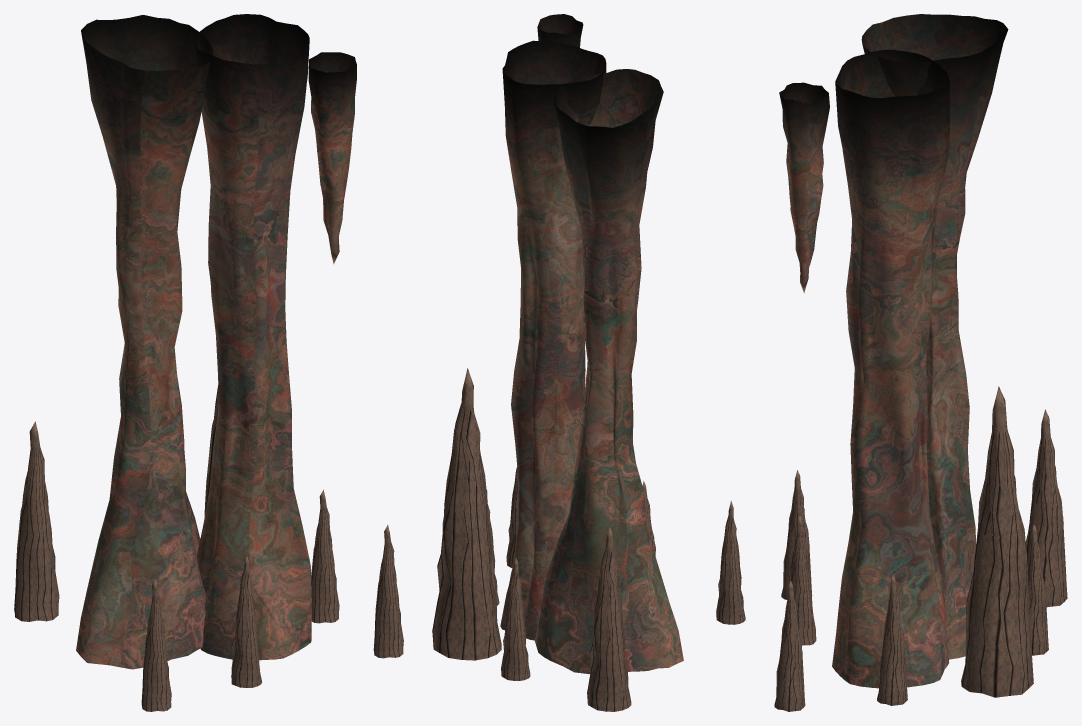
Rendered from cave_objects_stala_pillar2.glb.
3 renders of one model, left to right at view 1: azimuth 30°, elevation 25°; view 2: azimuth 150°, elevation 25°; view 3: azimuth 270°, elevation 25°, orthographic. The views are drawn at different scales.
Parts seen in each view (by area): view 1: stala_pillar2-col; view 2: stala_pillar2-col; view 3: stala_pillar2-col.
Boxes of the visible parts, x1,y1,x2,y2 form: stala_pillar2-col: (14,14,403,711); stala_pillar2-col: (432,14,745,711); stala_pillar2-col: (774,14,1067,711).
Bounding box in the file's own units: 1.81 × 4.02 × 1.8.
Materials: 1 (1 with a texture image).
